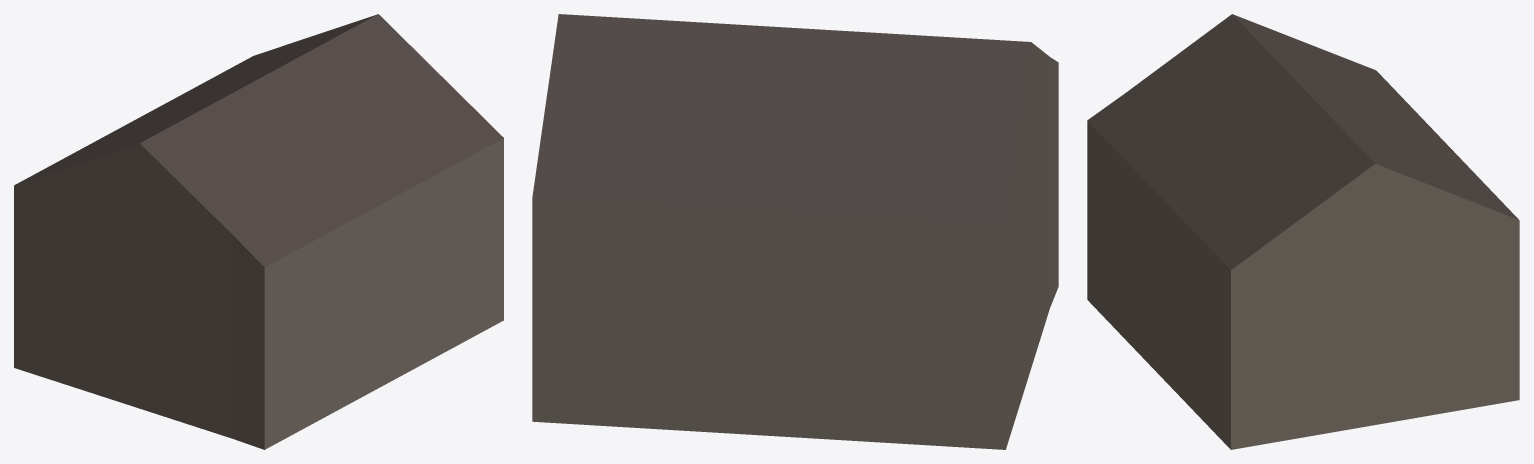
The picture shows the model from 3 angles, left to right: view 1: azimuth 30°, elevation 25°; view 2: azimuth 150°, elevation 25°; view 3: azimuth 270°, elevation 25°; orthographic projection. The views are drawn at different scales.
Visible parts, largest first — view 1: HP-w1198845821; view 2: HP-w1198845821; view 3: HP-w1198845821.
Part boxes in pixels (left/top/right/bottom): HP-w1198845821: left=14, top=14, right=503, bottom=449; HP-w1198845821: left=532, top=14, right=1058, bottom=449; HP-w1198845821: left=1087, top=14, right=1519, bottom=449.
Size of the model in its own units: 14.32 by 8.73 by 13.08.
